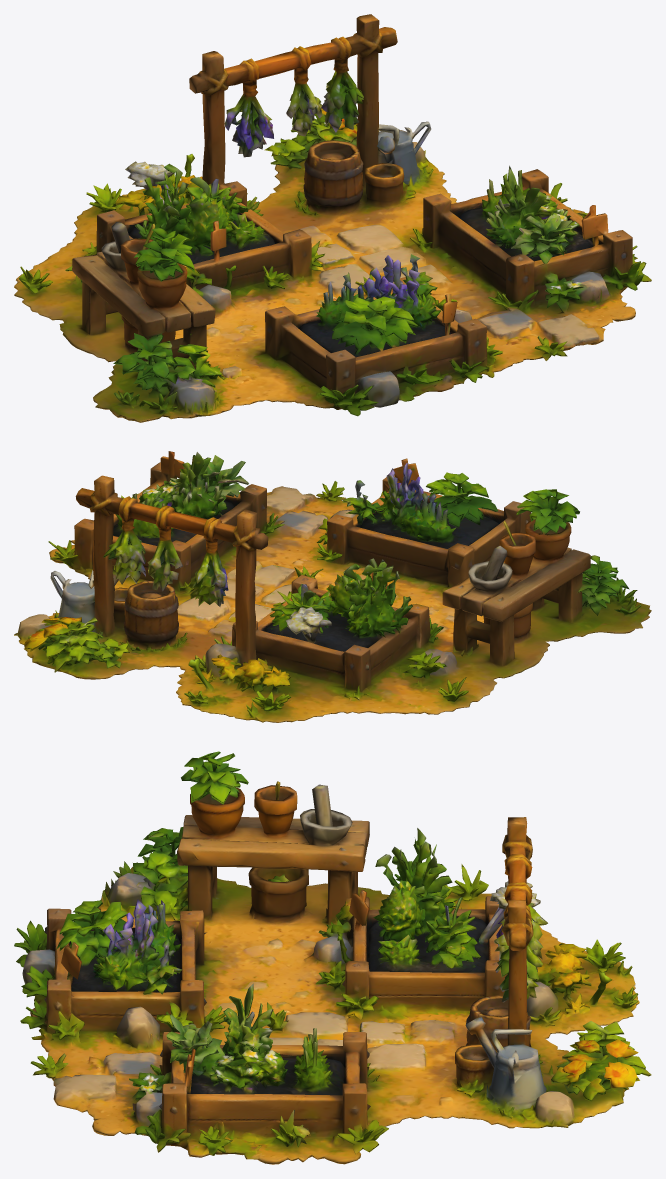
The model's file is garden beds 3d model.glb.
3 views of the same model, one above another, from view 1: azimuth 30°, elevation 25°; view 2: azimuth 150°, elevation 25°; view 3: azimuth 270°, elevation 25° (orthographic). The views are drawn at different scales.
Visible parts, largest first — view 1: tripo_node_a671d2ad-bd07-4052-8e27-cbd698d6b02a; view 2: tripo_node_a671d2ad-bd07-4052-8e27-cbd698d6b02a; view 3: tripo_node_a671d2ad-bd07-4052-8e27-cbd698d6b02a.
Part boxes in pixels (<box>): tripo_node_a671d2ad-bd07-4052-8e27-cbd698d6b02a: <box>14,14,651,422</box>; tripo_node_a671d2ad-bd07-4052-8e27-cbd698d6b02a: <box>14,451,651,722</box>; tripo_node_a671d2ad-bd07-4052-8e27-cbd698d6b02a: <box>14,751,651,1164</box>.
Size of the model in its own units: 1 by 0.2979 by 0.8959.
1 material, 1 textured.
